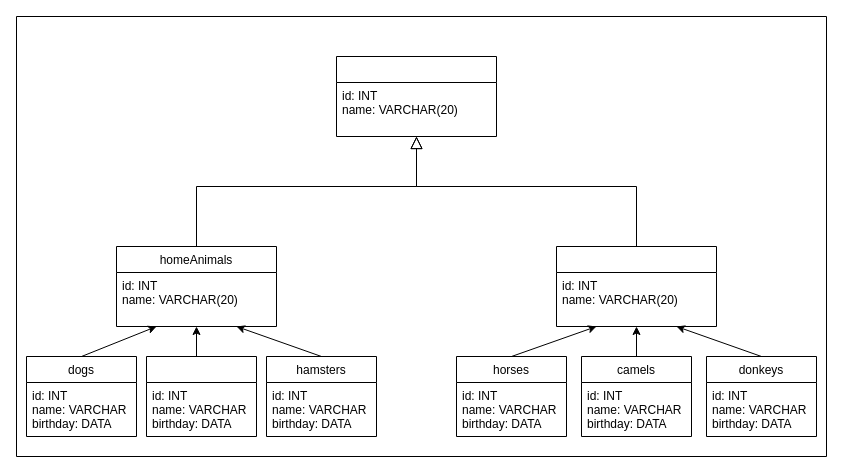
This 843x473 diagram has some shape labels left out. The shapes that lost their labels are listed below. From the top down, each one's box as (x1, y1, x2, y2) in pixels, then its label:
(336, 56, 496, 136): Animals
(556, 246, 716, 326): packAnimals
(146, 356, 256, 436): cats
